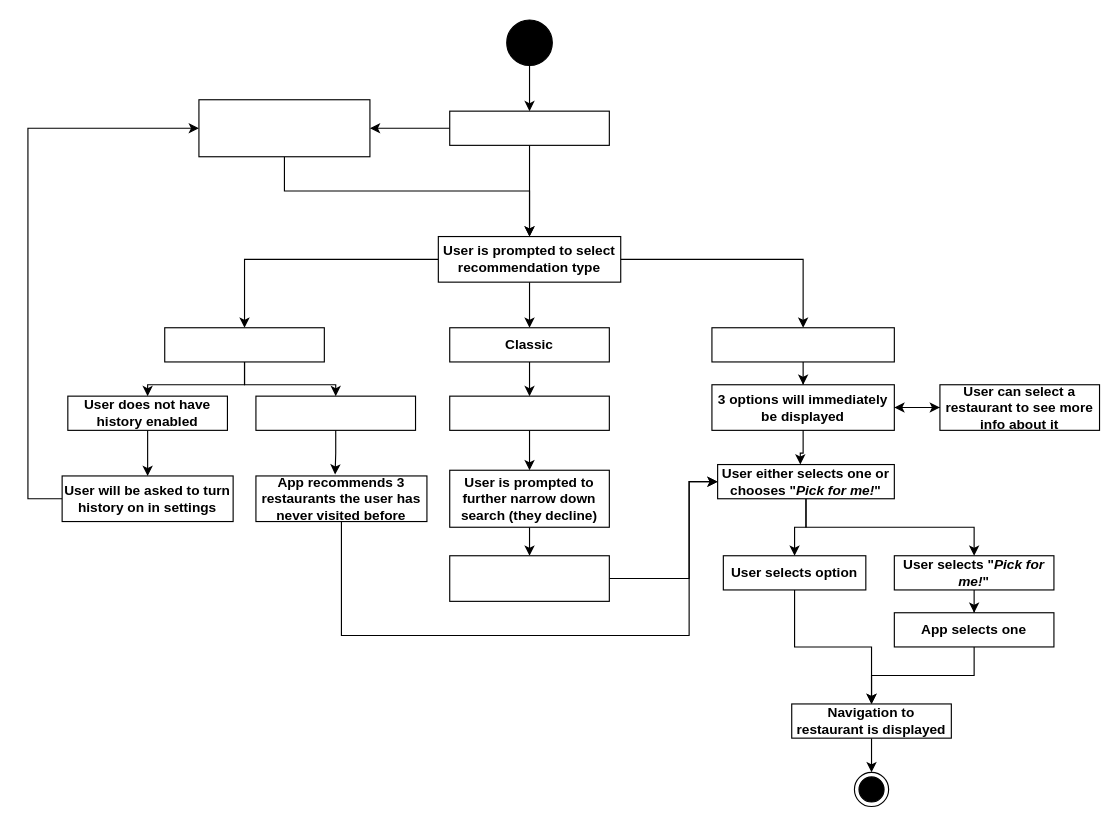
Image size: 1119x827. Some labels were removed from this diagram. The shapes that lost their labels are listed below. From the top down, each one's centre as x and y in pixels, then its label:
the point at 284,128: User can update food preferences on profile (vegan)
the point at 529,127: User Opens App
the point at 244,344: New
the point at 802,344: Quick
the point at 335,412: User has history enabled
the point at 529,412: User inputs that they want vegan food
the point at 529,578: Several recommendations will be displayed
